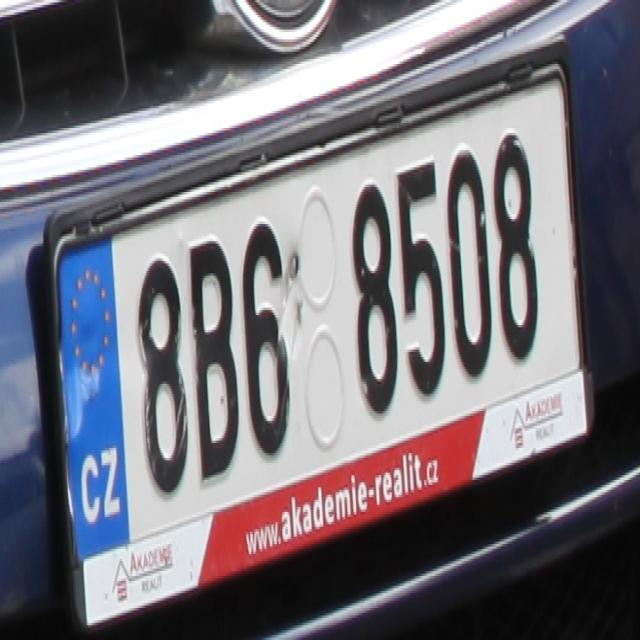0: (447, 143, 493, 389)
5: (397, 165, 446, 401)
6: (241, 214, 289, 456)
8: (136, 251, 191, 510), (490, 126, 539, 377), (351, 170, 397, 416)
B: (187, 237, 239, 488)
